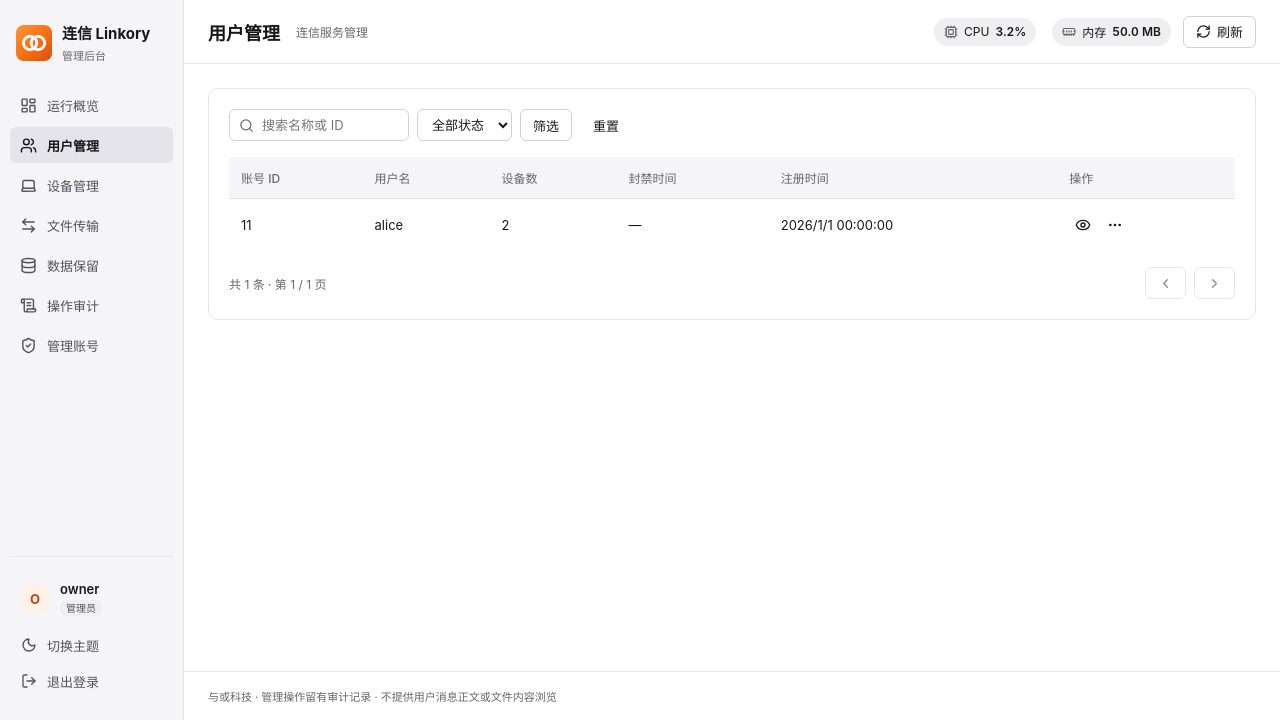
Test: console › lets an admin ban a user only with a reason, sending the CSRF token
expect the text "alice" is shown: met, box [362,198,489,251]
Click the button named "更多操作" at (1115, 225), box [1101,211,1129,239]
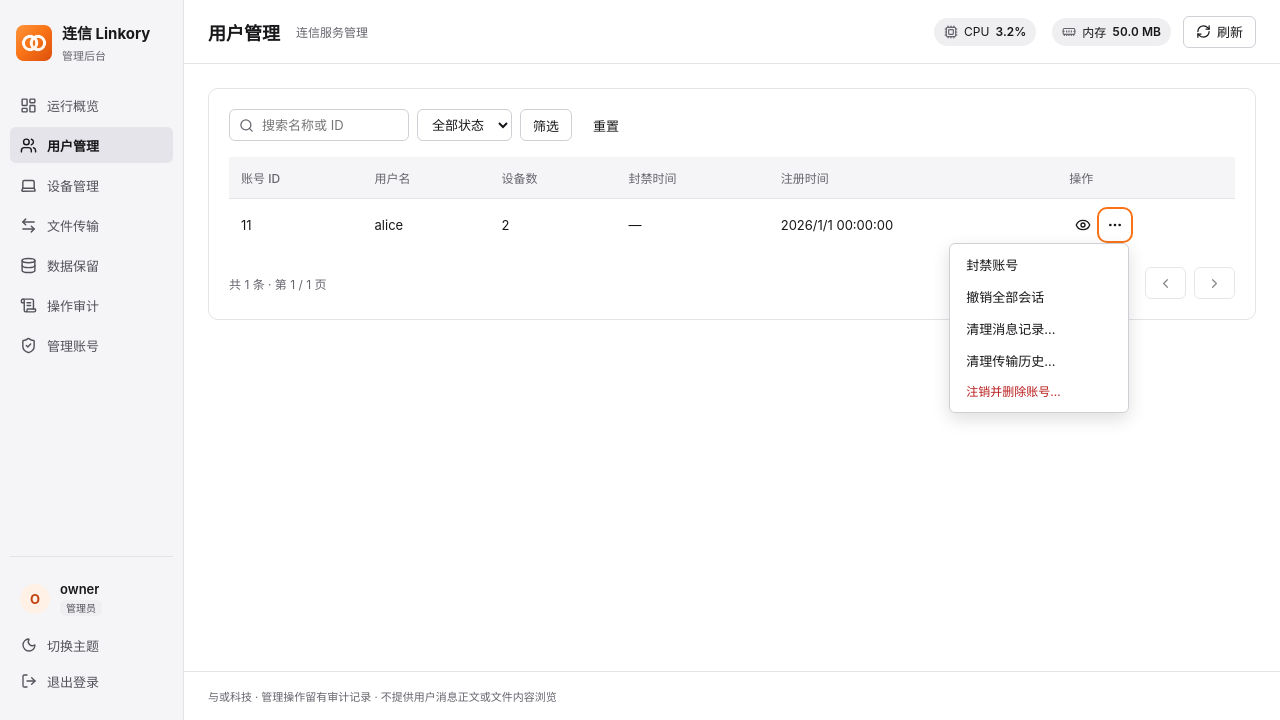
Click the button "封禁账号" at (1039, 264), box [954,248,1124,280]
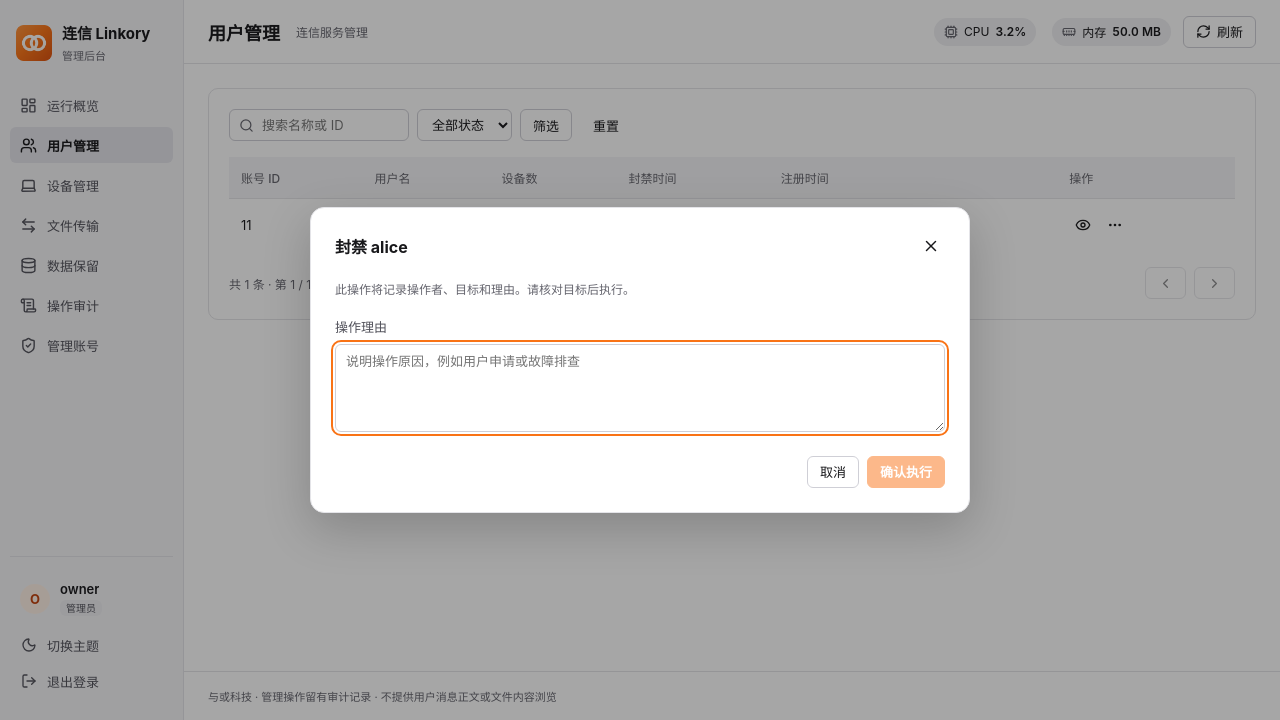
Click the button "确认执行" at (906, 472), box [867,456,945,488]
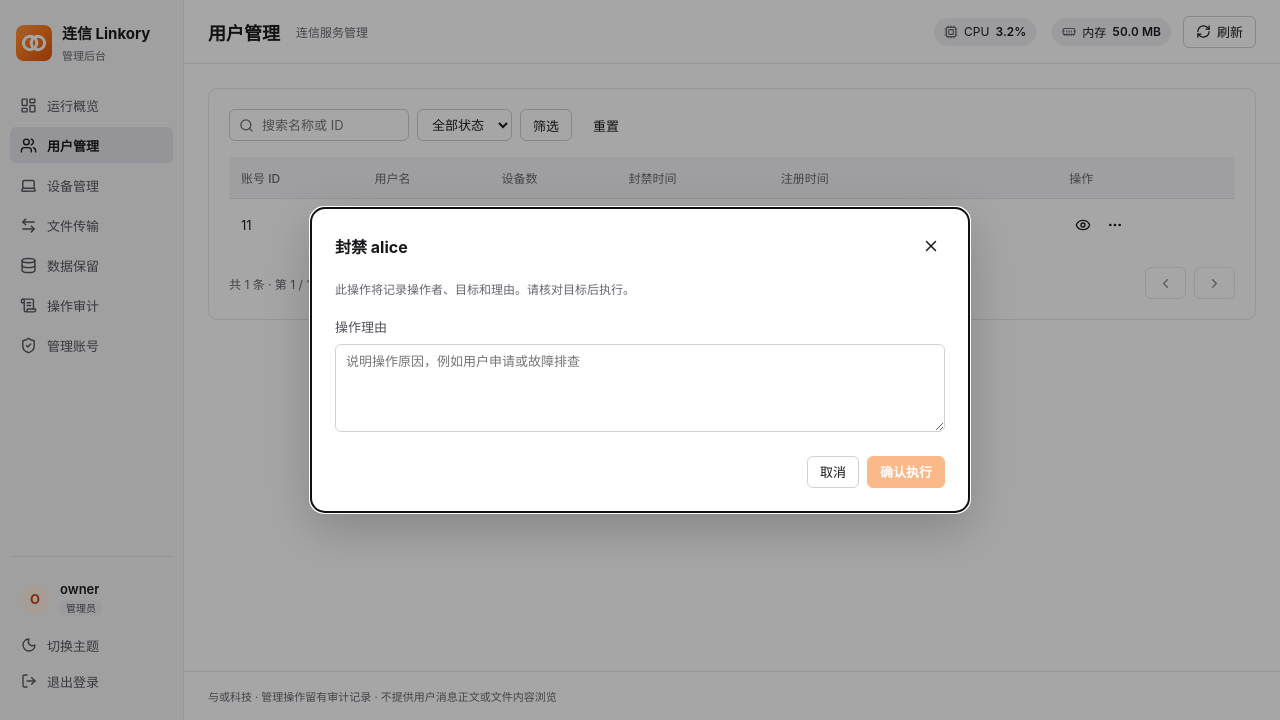
Type "违反使用条款" into the text box at (640, 388), box [335,344,945,432]
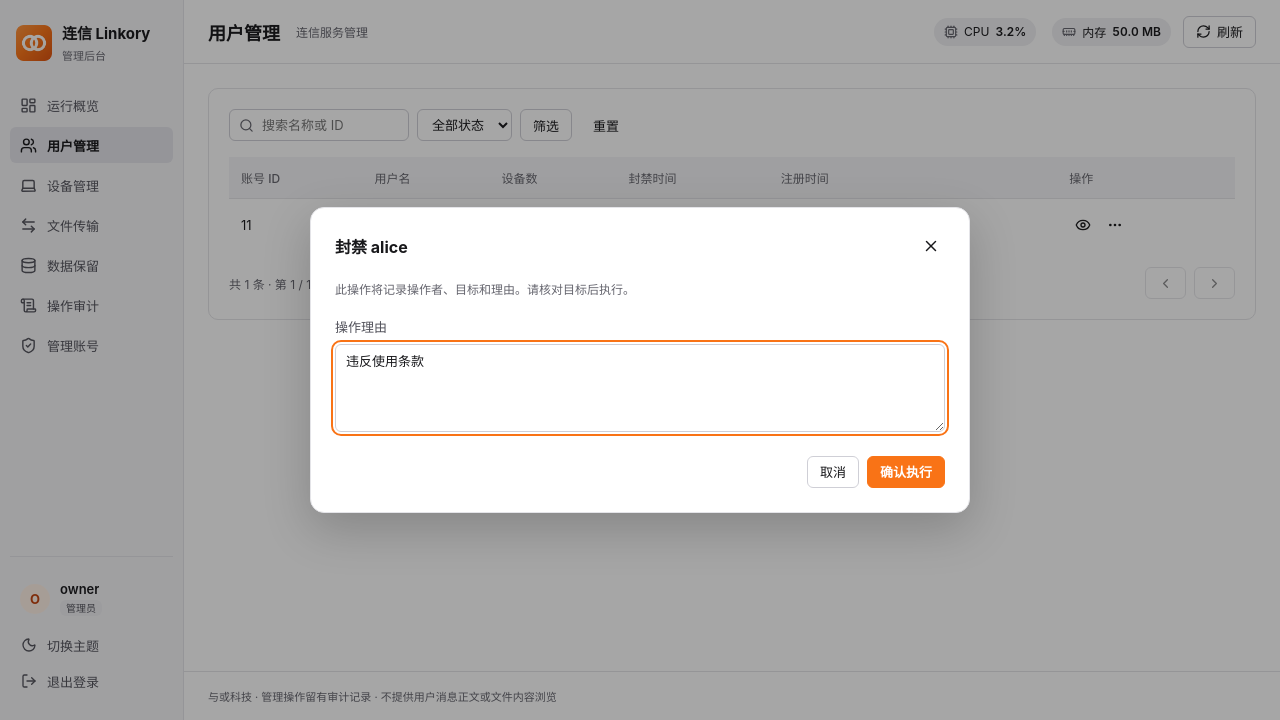
Click the button "确认执行" at (906, 472), box [867,456,945,488]
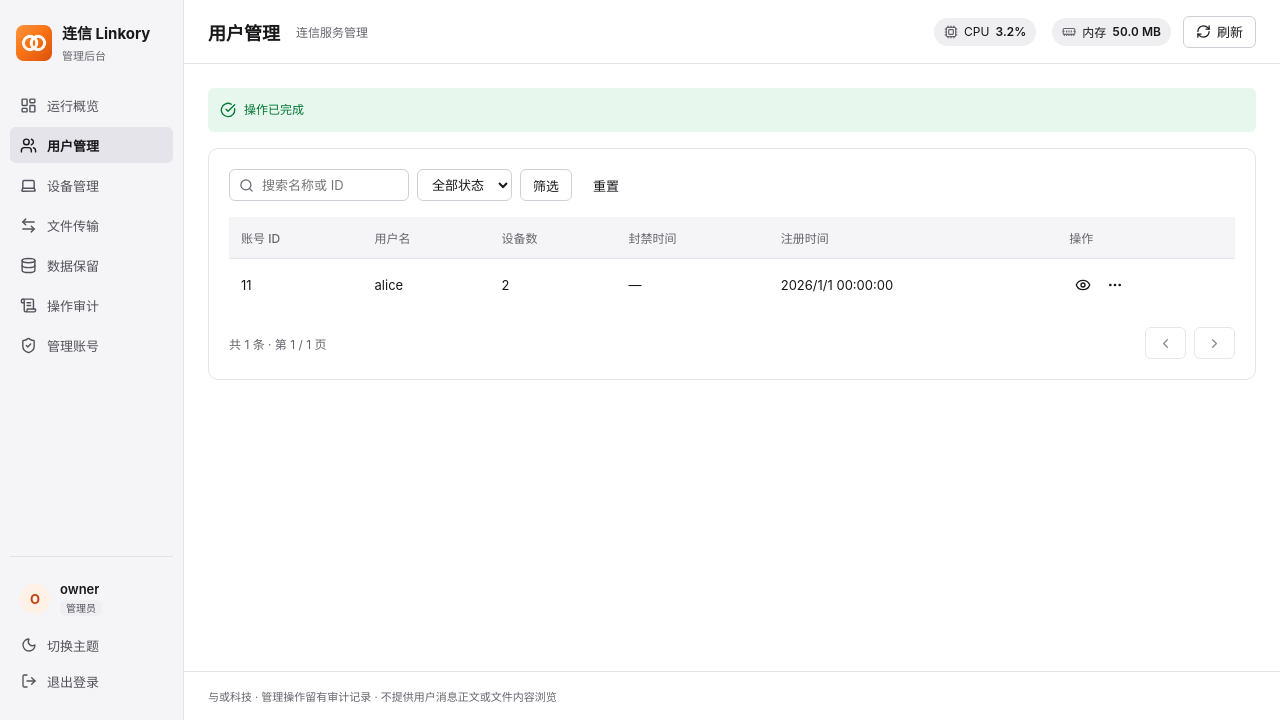
expect the text "操作已完成" is shown: met, box [208,88,1256,132]
